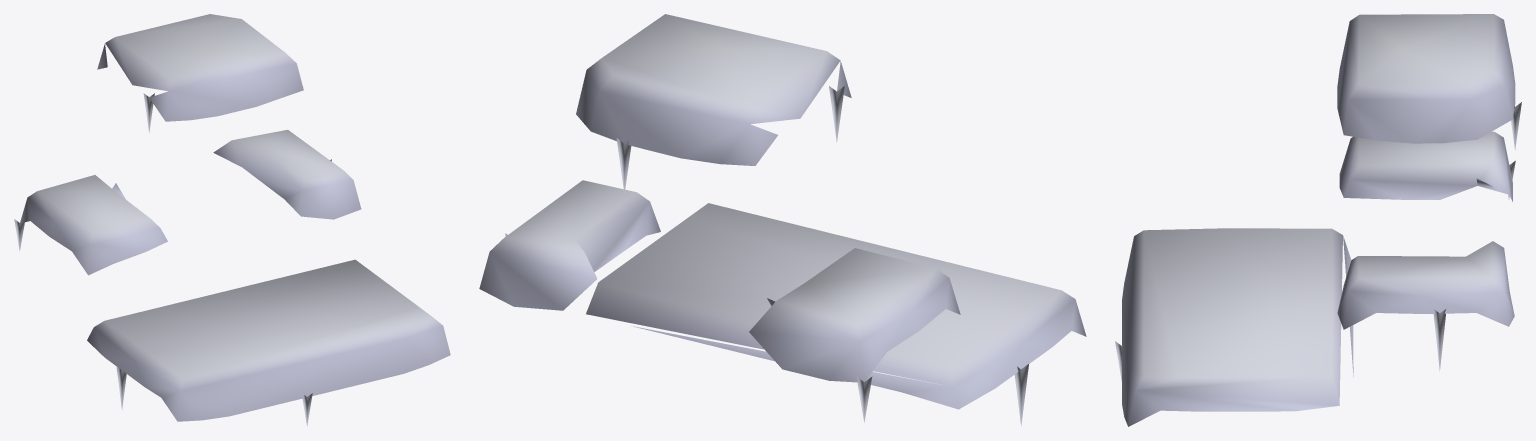
The model's file is wall.segment.snow.glb.
3 renders of one model, left to right at view 1: azimuth 30°, elevation 25°; view 2: azimuth 150°, elevation 25°; view 3: azimuth 270°, elevation 25°, orthographic. The views are drawn at different scales.
Visible parts, largest first — view 1: snow; view 2: snow; view 3: snow.
Boxes of the visible parts, <box> form: snow: <box>14,14,450,426</box>; snow: <box>479,14,1086,426</box>; snow: <box>1115,14,1521,426</box>.
Bounding box in the file's own units: 1.13 × 1.06 × 1.13.
